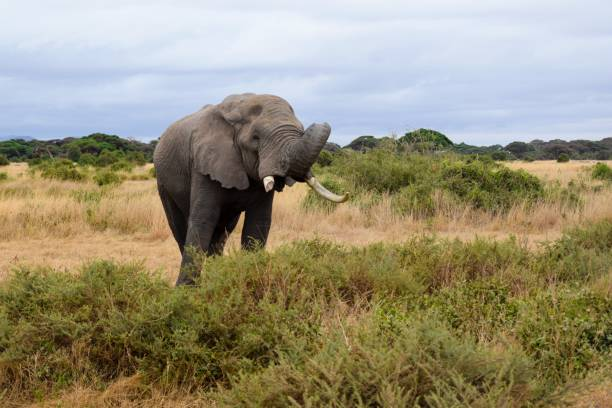africanelephant: (239, 100, 350, 211)
